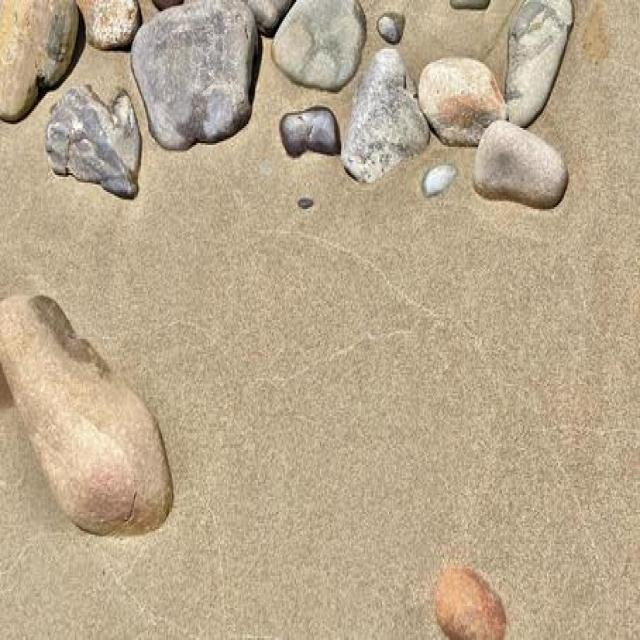white-sand: (0, 0, 639, 638), (362, 0, 516, 87)
